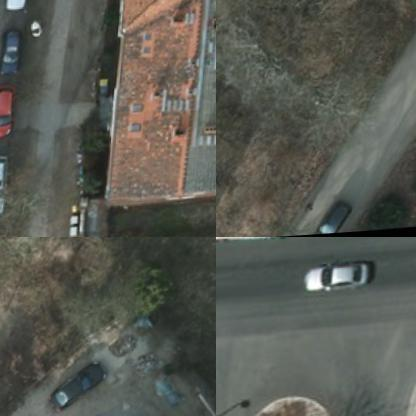car: (52, 369, 112, 415), (307, 264, 373, 296), (0, 26, 28, 83), (0, 157, 18, 218), (0, 93, 19, 142), (331, 206, 362, 236), (6, 0, 32, 15)
